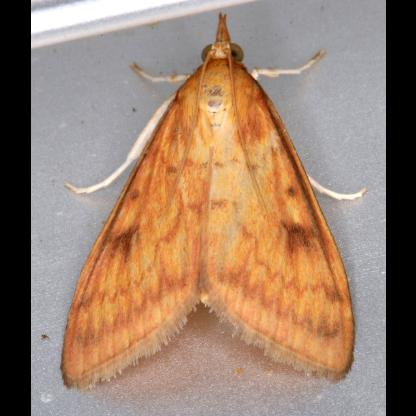Asian Corn Borer Moth: (55, 7, 371, 394)
